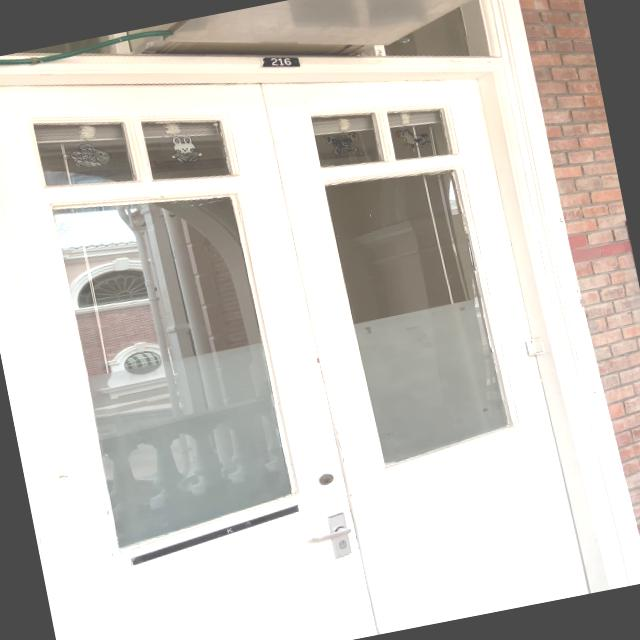room216: (254, 46, 305, 77)
